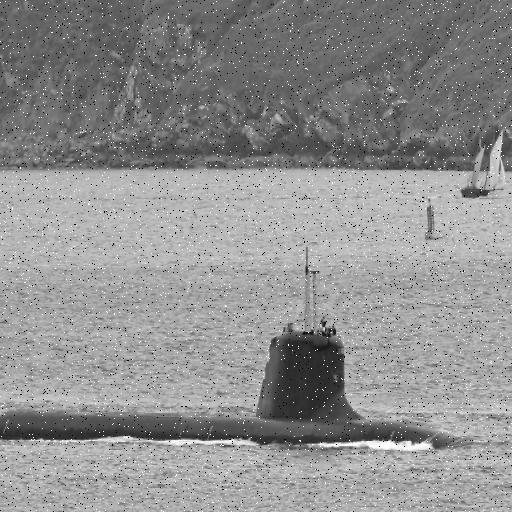submarine: (1, 250, 471, 444)
